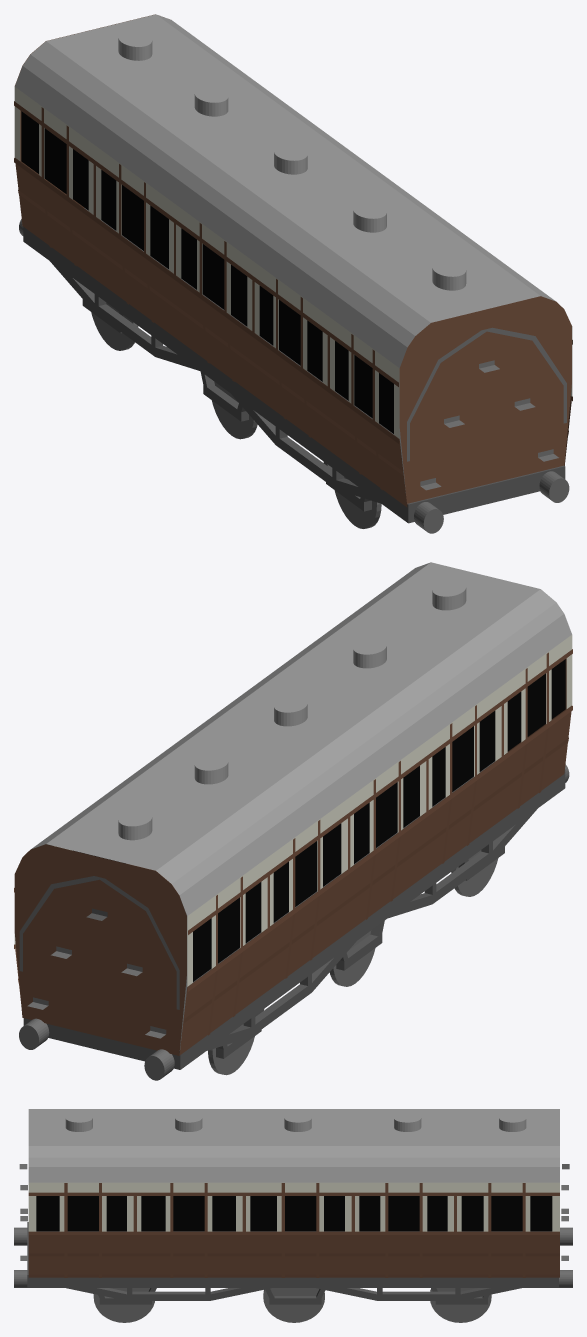
File: lbscr-6wheel-umber.dae
3 renders of one model, top to bottom at view 1: azimuth 30°, elevation 25°; view 2: azimuth 150°, elevation 25°; view 3: azimuth 270°, elevation 25°, orthographic. The views are drawn at different scales.
Visible parts, largest first — view 1: Plane_083, Plane_084, Plane_082, Plane_001, Plane_087, Plane_081, Plane_002, Plane_041, Plane_075, Plane_074, Plane_073, Plane_100 (+13 smaller); view 2: Plane_083, Plane_085, Plane_082, Plane_001, Plane_087, Plane_081, Plane_041, Plane_002, Plane_075, Plane_074, Plane_073, Plane_101 (+13 smaller); view 3: Plane_001, Plane_010, Plane_086, Plane_083, Plane_006, Plane_002, Plane_041, Plane_017, Plane_016, Plane_018, Plane_019, Cylinder_005 (+31 smaller).
Boxes of the visible parts, bbox=[...] form: Plane_083: bbox=[15, 28, 485, 367]; Plane_084: bbox=[399, 296, 571, 504]; Plane_082: bbox=[15, 158, 407, 507]; Plane_001: bbox=[101, 14, 571, 324]; Plane_087: bbox=[21, 111, 393, 433]; Plane_081: bbox=[14, 87, 399, 386]; Plane_002: bbox=[238, 336, 565, 523]; Plane_041: bbox=[23, 208, 246, 398]; Plane_075: bbox=[14, 101, 398, 386]; Plane_074: bbox=[14, 158, 398, 443]; Plane_073: bbox=[18, 190, 403, 475]; Plane_100: bbox=[407, 327, 566, 461]; Plane_083: bbox=[101, 575, 571, 915]; Plane_085: bbox=[14, 844, 186, 1055]; Plane_082: bbox=[179, 705, 571, 1055]; Plane_001: bbox=[31, 562, 485, 857]; Plane_087: bbox=[193, 659, 565, 981]; Plane_081: bbox=[187, 635, 572, 934]; Plane_041: bbox=[23, 898, 395, 1069]; Plane_002: bbox=[295, 761, 565, 912]; Plane_075: bbox=[188, 649, 572, 934]; Plane_074: bbox=[188, 706, 572, 991]; Plane_073: bbox=[183, 738, 568, 1023]; Plane_101: bbox=[19, 876, 179, 1009]; Plane_001: bbox=[28, 1127, 559, 1182]; Plane_010: bbox=[28, 1235, 559, 1274]; Plane_086: bbox=[36, 1196, 552, 1231]; Plane_083: bbox=[28, 1109, 559, 1127]; Plane_006: bbox=[28, 1182, 559, 1192]; Plane_002: bbox=[27, 1222, 324, 1287]; Plane_041: bbox=[324, 1231, 558, 1287]; Plane_017: bbox=[28, 1231, 559, 1234]; Plane_016: bbox=[28, 1192, 559, 1195]; Plane_018: bbox=[28, 1274, 559, 1277]; Plane_019: bbox=[28, 1253, 559, 1256]; Cylinder_005: bbox=[263, 1288, 324, 1322].
Bounding box in the file's own units: 1.78 × 7.15 × 2.59.
